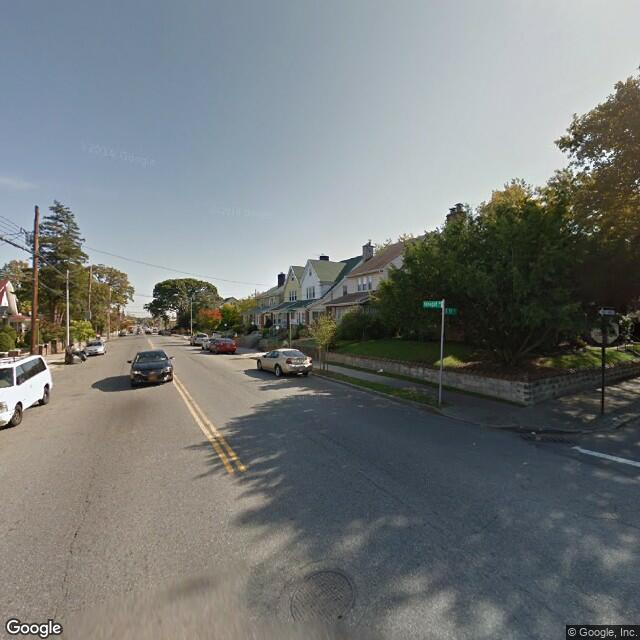litter: (375, 365, 385, 385)
